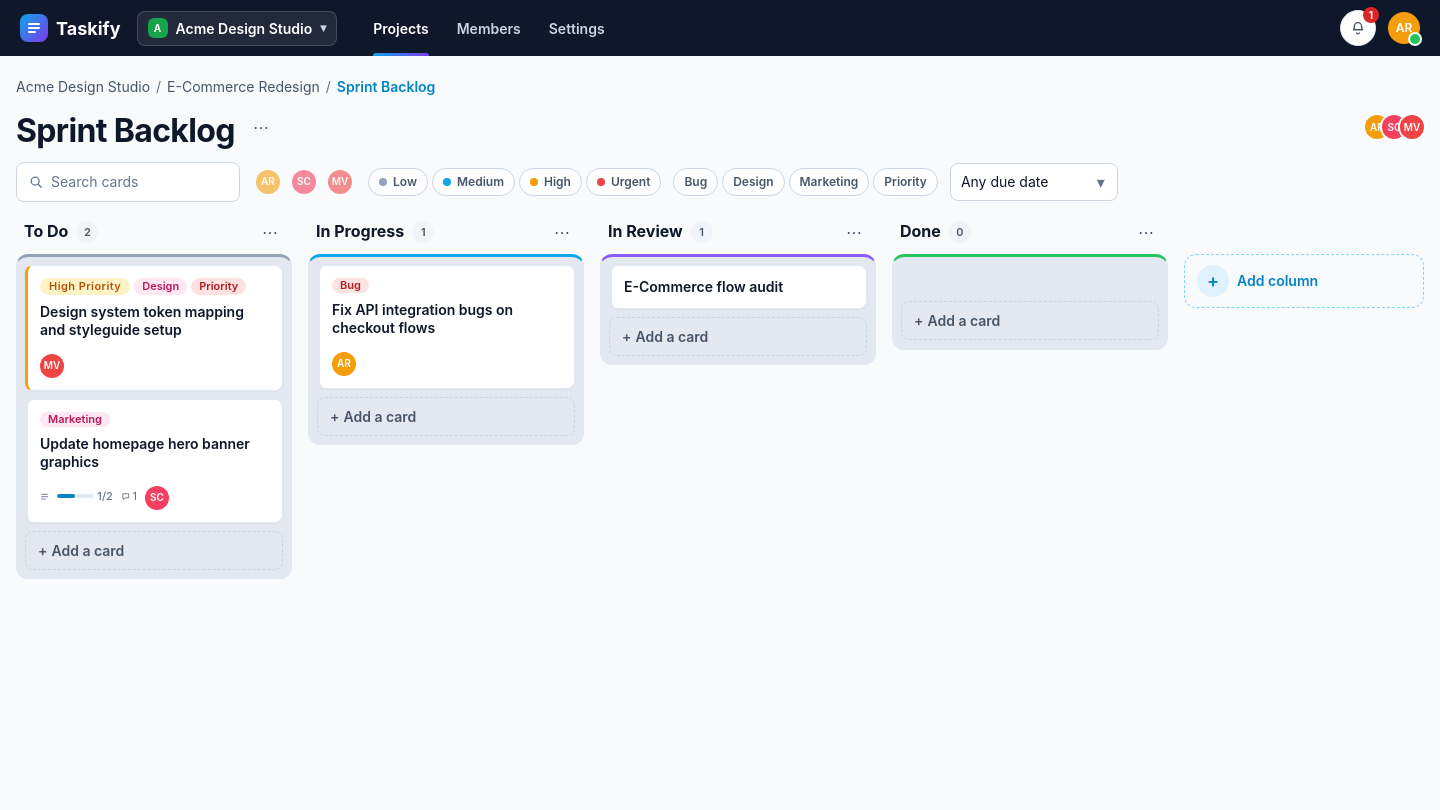
Scenario: board actions › renames the board from its menu
The image size is (1440, 810).
Click the button named "Board actions" at (261, 127), box x1=247 y1=113 x2=275 y2=141
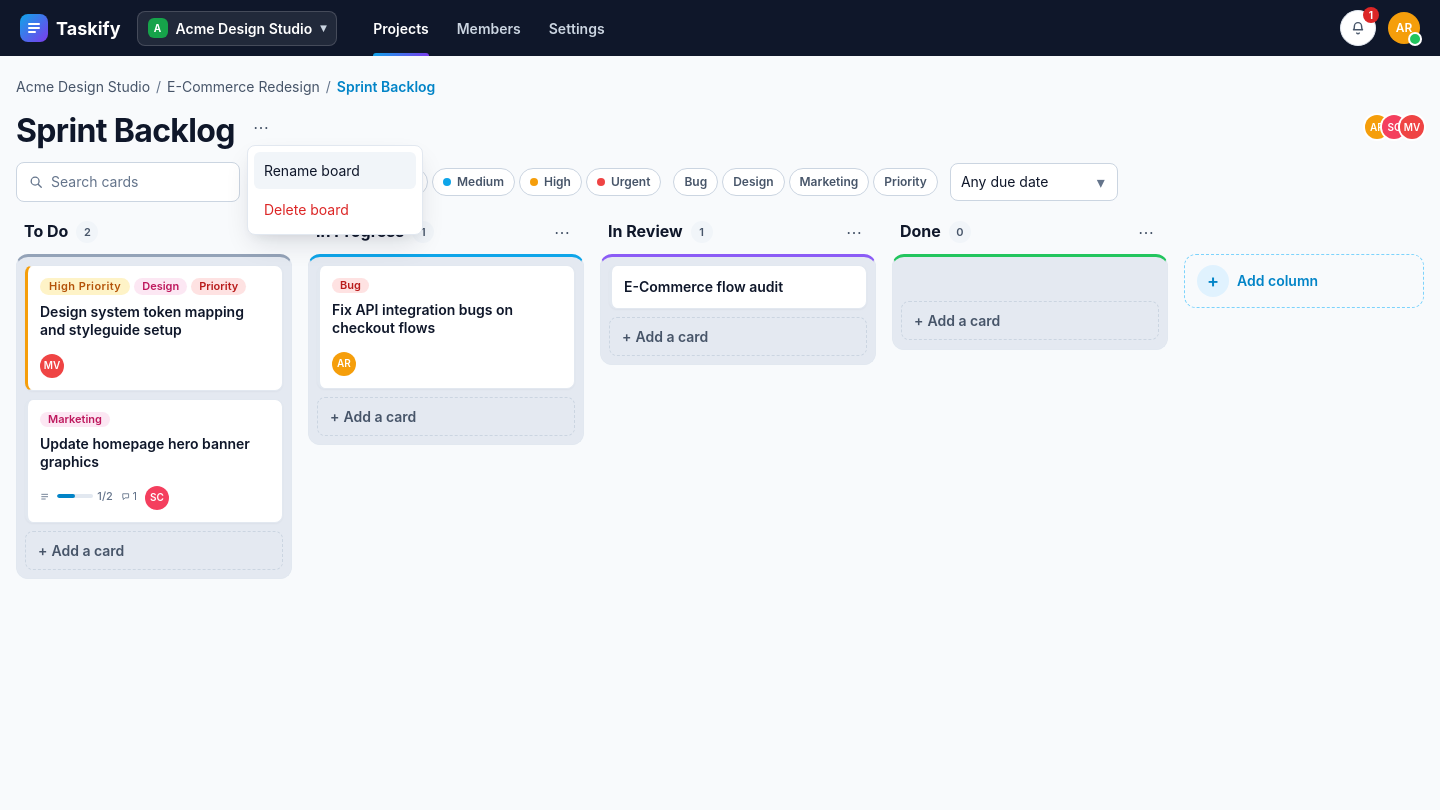
Click the menu item "Rename board" at (335, 171), box x1=254 y1=152 x2=416 y2=189
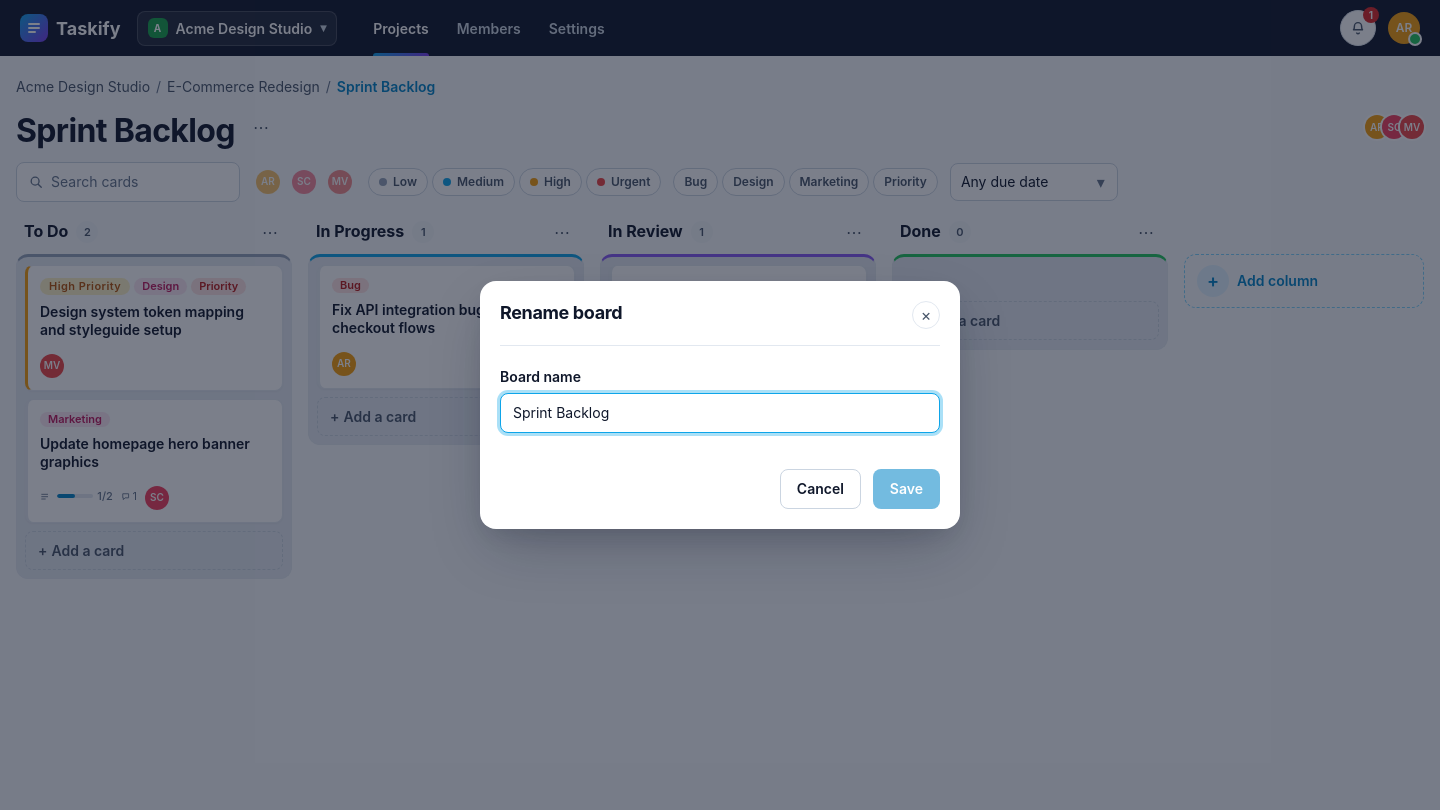
Replace the text in the field labelled "Board name" with "Release Board" at (720, 413), box x1=513 y1=395 x2=927 y2=431
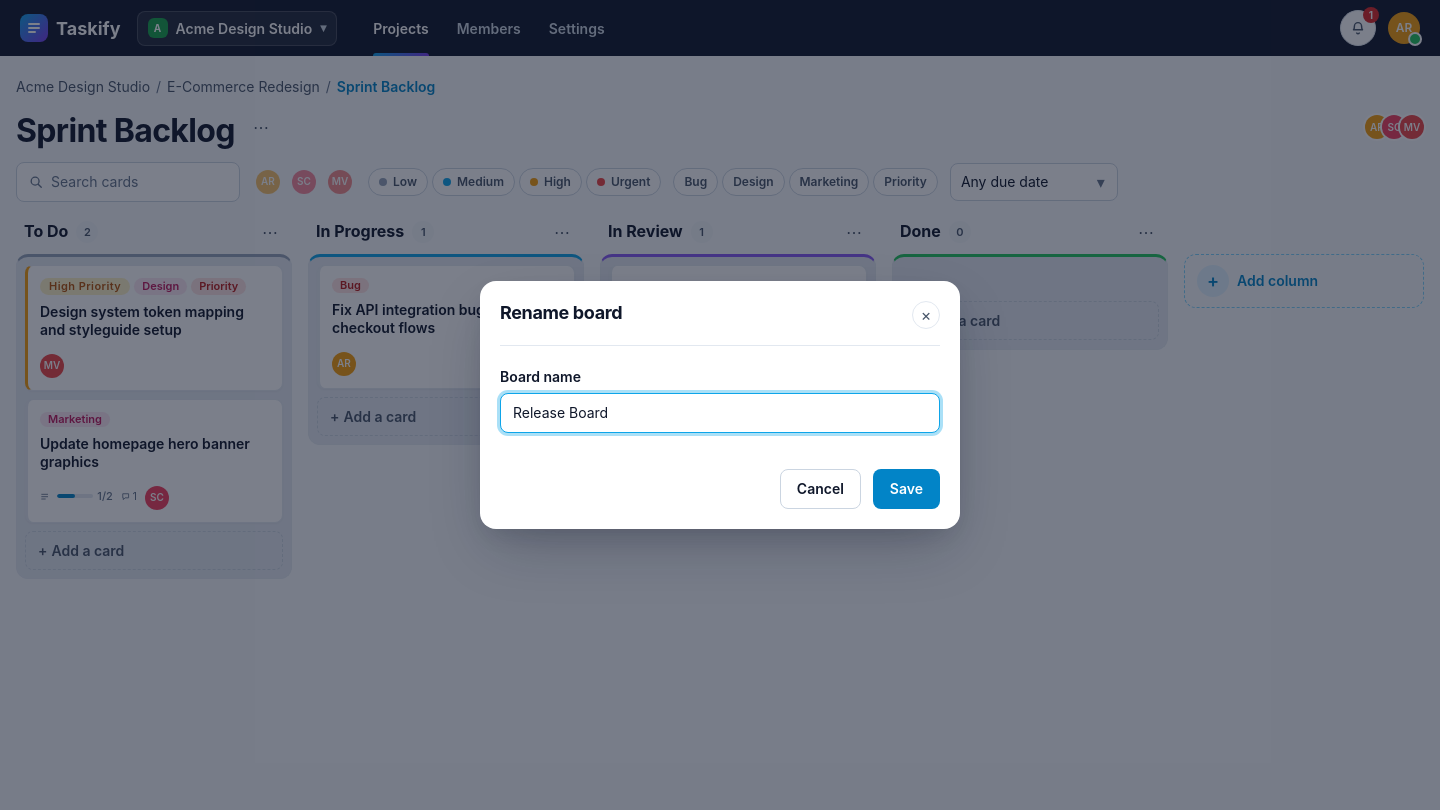
Click the button "Save" at (906, 489), box x1=873 y1=469 x2=940 y2=509
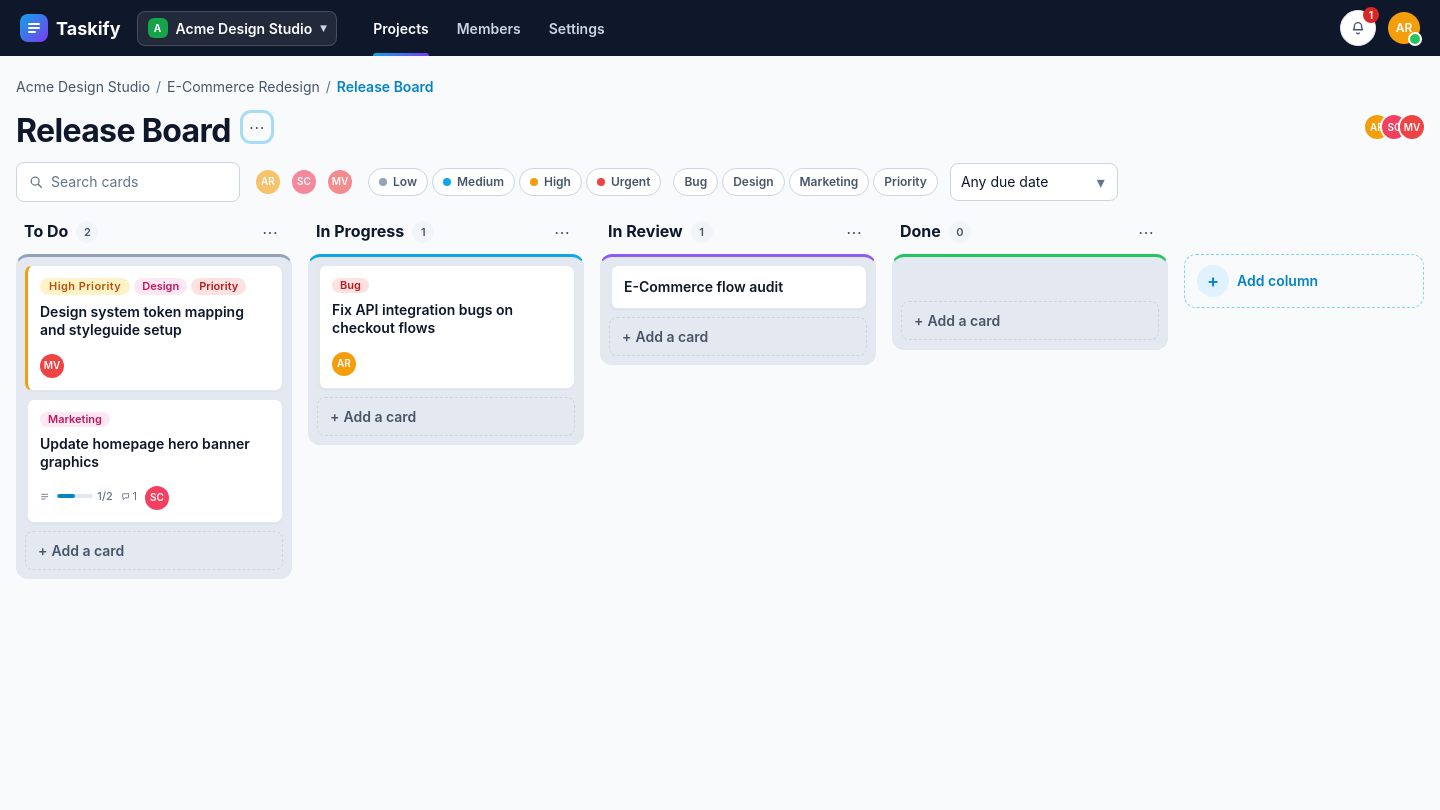
Result: the heading "Release Board" is shown at x1=16 y1=113 x2=231 y2=150
